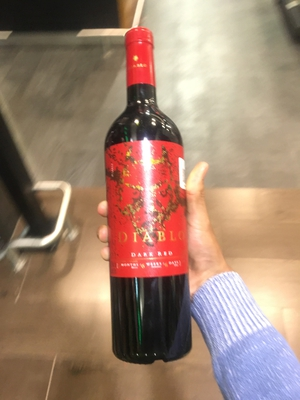diablo dark red: (102, 42, 201, 367)
